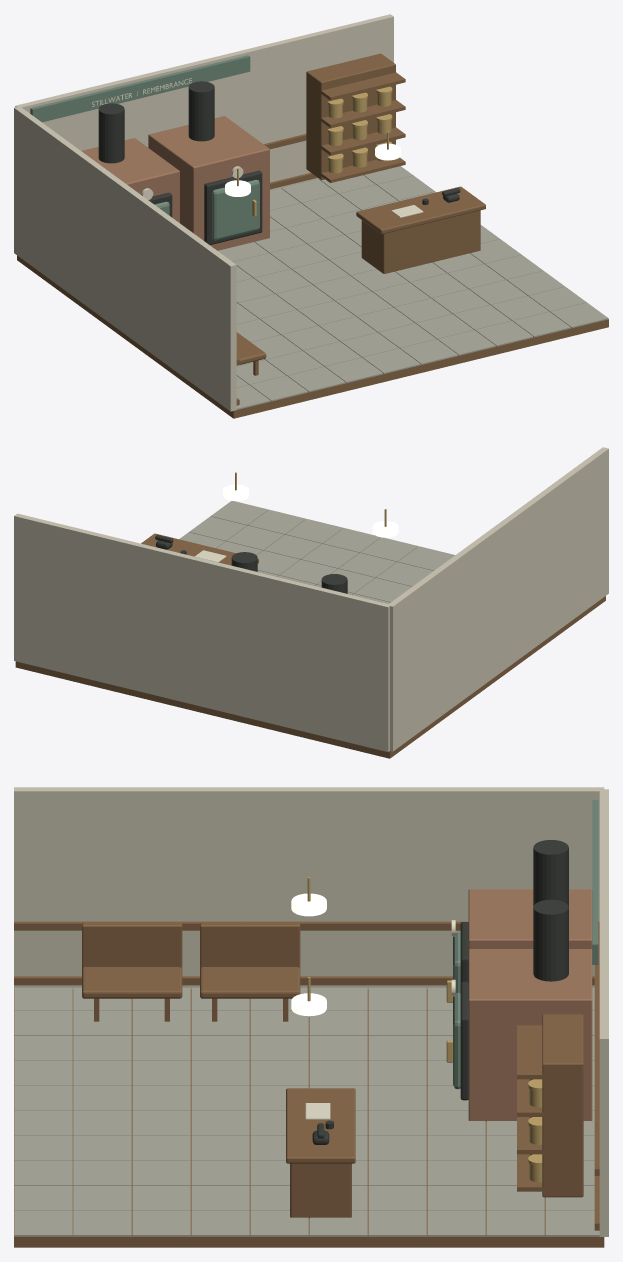
Rendered from interior-crematorium.glb.
The picture shows the model from 3 angles, top to bottom: view 1: azimuth 30°, elevation 25°; view 2: azimuth 150°, elevation 25°; view 3: azimuth 270°, elevation 25°; orthographic projection. The views are drawn at different scales.
Visible parts, largest first — view 1: stone floor slab, west wall, back wall, foundation, firebrick furnace, back wood rail, closed furnace door, furnace iron surround, furnace door handle, opal pendant; view 2: back wall, west wall, stone floor slab, foundation, furnace iron surround, opal pendant; view 3: stone floor slab, west wall, foundation, firebrick furnace, back wood rail, furnace iron surround, side wood rail, back wall, closed furnace door, furnace door handle, opal pendant.
Part boxes in pixels (<box>): stone floor slab: <box>218,166,608,409</box>; west wall: <box>14,107,236,411</box>; back wall: <box>15,14,393,190</box>; foundation: <box>17,186,608,418</box>; firebrick furnace: <box>81,116,269,250</box>; back wood rail: <box>263,53,405,189</box>; closed furnace door: <box>30,55,259,240</box>; furnace iron surround: <box>98,81,262,244</box>; furnace door handle: <box>252,86,392,216</box>; opal pendant: <box>225,143,400,196</box>; back wall: <box>14,513,391,751</box>; west wall: <box>388,447,608,751</box>; stone floor slab: <box>179,501,455,603</box>; foundation: <box>15,533,605,758</box>; furnace iron surround: <box>231,552,347,593</box>; opal pendant: <box>223,484,398,537</box>; stone floor slab: <box>14,987,599,1236</box>; west wall: <box>14,787,604,989</box>; foundation: <box>14,922,604,1247</box>; firebrick furnace: <box>468,889,592,1121</box>; back wood rail: <box>517,921,599,1230</box>; furnace iron surround: <box>460,840,568,1100</box>; side wood rail: <box>14,921,599,985</box>; back wall: <box>599,789,608,1236</box>; closed furnace door: <box>453,800,598,1089</box>; furnace door handle: <box>446,980,542,1182</box>; opal pendant: <box>291,893,326,1016</box>.
Size of the model in its own units: 10.08 by 3.9 by 10.08.
